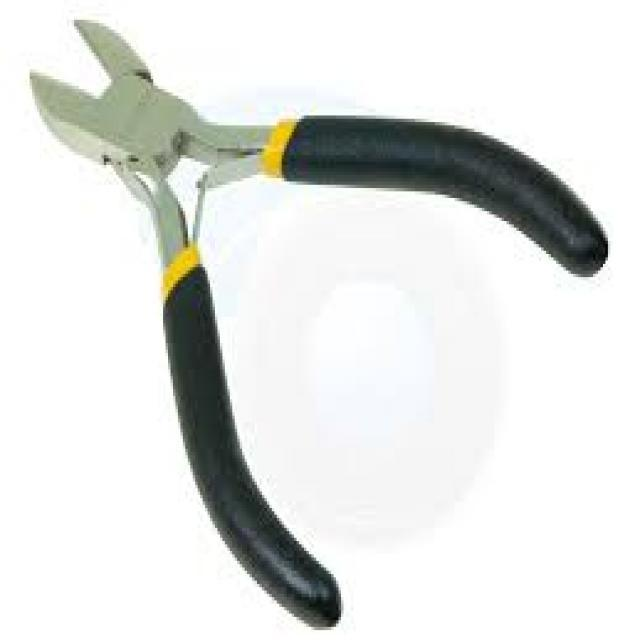pliers: (24, 18, 618, 626)
